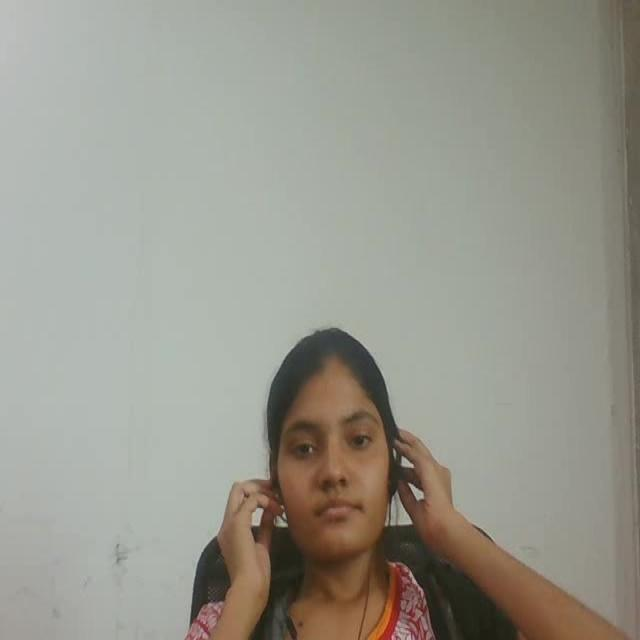Bored: (229, 304, 453, 600)
